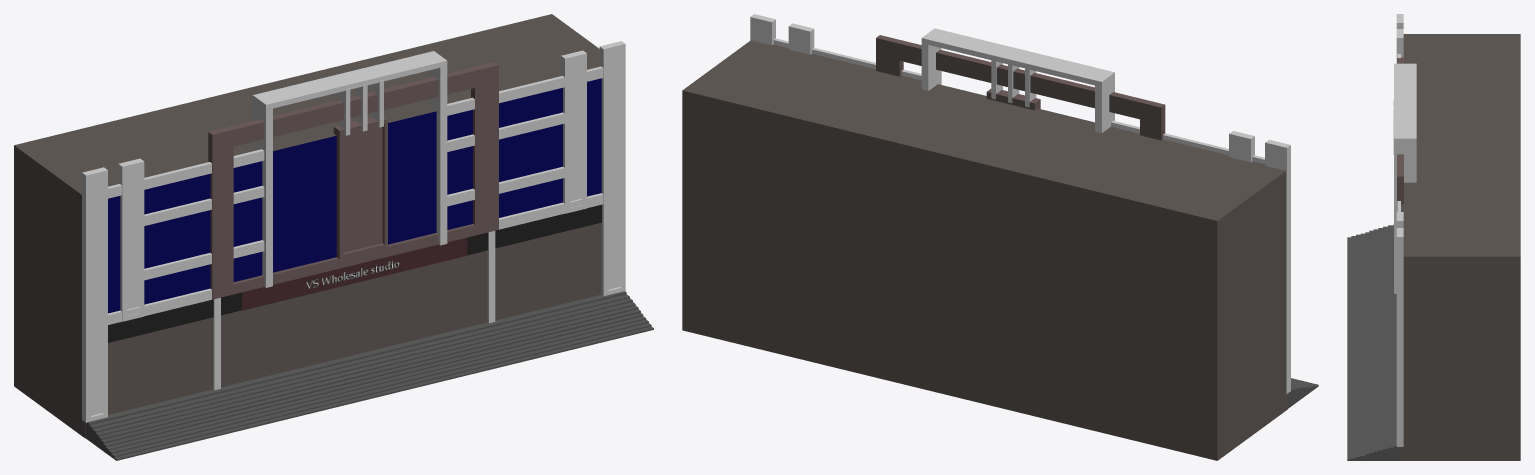
Rendered from PEARL fbx.fbx.
The picture shows the model from 3 angles, left to right: view 1: azimuth 30°, elevation 25°; view 2: azimuth 150°, elevation 25°; view 3: azimuth 270°, elevation 25°; orthographic projection. The views are drawn at different scales.
Visible parts, largest first — view 1: polySurface11, polySurface6, polySurface8, polySurface4, polySurface14, polySurface7, pPlane6, pPlane4, polySurface13, polySurface5, polySurface18, polySurface2 (+8 smaller); view 2: polySurface11, polySurface8, polySurface14, polySurface4, polySurface5, polySurface13, polySurface18; view 3: polySurface11, polySurface6, polySurface14, polySurface4, polySurface8, polySurface13.
Part boxes in pixels (<box>): polySurface11: <box>14,14,601,437</box>; polySurface6: <box>85,291,653,460</box>; polySurface8: <box>208,62,498,299</box>; polySurface4: <box>82,41,625,422</box>; polySurface14: <box>252,51,447,287</box>; polySurface7: <box>333,116,387,259</box>; pPlane6: <box>108,204,601,342</box>; pPlane4: <box>242,237,467,310</box>; polySurface13: <box>118,158,144,321</box>; polySurface5: <box>561,50,586,213</box>; polySurface18: <box>144,149,264,189</box>; polySurface2: <box>144,185,264,225</box>; polySurface11: <box>682,40,1287,460</box>; polySurface8: <box>876,35,1165,140</box>; polySurface14: <box>921,28,1114,133</box>; polySurface4: <box>750,14,1290,393</box>; polySurface5: <box>788,23,814,54</box>; polySurface13: <box>1229,131,1254,162</box>; polySurface18: <box>1111,120,1228,155</box>; polySurface11: <box>1400,34,1520,460</box>; polySurface6: <box>1347,224,1400,460</box>; polySurface14: <box>1394,63,1416,293</box>; polySurface4: <box>1396,14,1403,446</box>; polySurface8: <box>1397,58,1403,211</box>; polySurface13: <box>1396,29,1403,63</box>.
Size of the model in its own units: 51.46 by 26.69 by 16.88.
7 materials, 1 textured.
